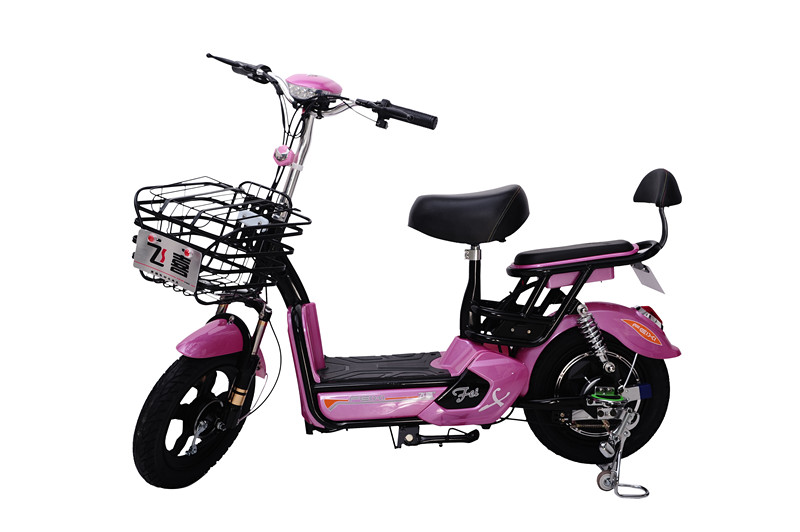电动车: (102, 38, 705, 518)
